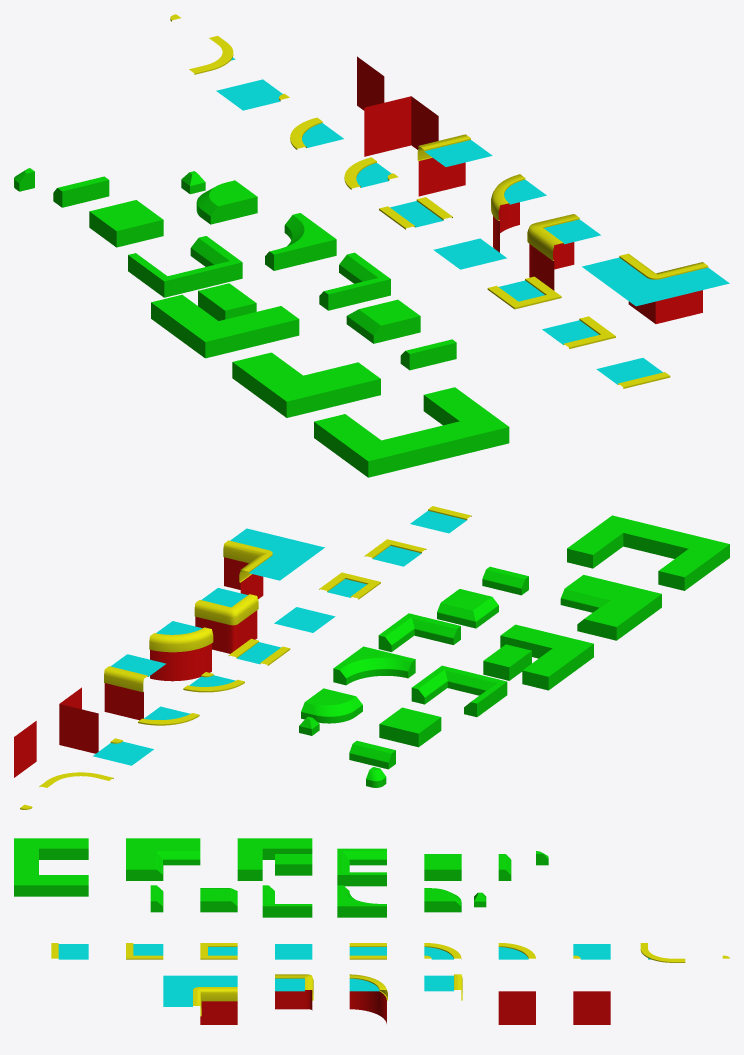
The model's file is Assets_HP.fbx.
3 renders of one model, top to bottom at view 1: azimuth 30°, elevation 25°; view 2: azimuth 150°, elevation 25°; view 3: azimuth 270°, elevation 25°, orthographic. The views are drawn at different scales.
Parts seen in each view (by area): view 1: Support_Outside_1Wide_HP, Wall_Outside_Corner_WithSupport_HP, Island_Inside_Corner_HP, Support_Outside_Corner_HP, Base_Corner_HP, Wall_Outside_1Wide_HP, Island_Outside_Corner_HP, Island_Wall_HP, Support_Inside_wall_HP, Bend_Outside_HP, Wall_Outside_Corner_HP, Wall_Inside_Corner_HP (+14 smaller); view 2: Support_Outside_1Wide_HP, Wall_Outside_Corner_WithSupport_HP, Island_Inside_Corner_HP, Support_Outside_Corner_HP, Island_Outside_Bend_HP, Island_Outside_Corner_HP, Wall_Outside_1Wide_HP, Island_Wall_HP, Bend_Outside_HP, Base_Corner_HP, Wall_Outside_Corner_HP, Support_Inside_wall_HP (+14 smaller); view 3: Support_Outside_1Wide_HP, Island_Inside_Corner_HP, Wall_Outside_Corner_WithSupport_HP, Support_Outside_Corner_HP, Wall_Outside_1Wide_HP, Island_Outside_Corner_HP, Island_Outside_Bend_HP, Base_Corner_HP, Base_HP, Support_Inside_wall_HP, Bend_Outside_HP, Wall_Outside_Corner_HP (+14 smaller).
Part boxes in pixels (x1,y1,x2,y2): Support_Outside_1Wide_HP: [314, 387, 509, 477]; Wall_Outside_Corner_WithSupport_HP: [232, 352, 380, 417]; Island_Inside_Corner_HP: [582, 253, 729, 323]; Support_Outside_Corner_HP: [151, 294, 299, 358]; Base_Corner_HP: [364, 96, 438, 156]; Wall_Outside_1Wide_HP: [128, 236, 242, 297]; Island_Outside_Corner_HP: [527, 214, 600, 290]; Island_Wall_HP: [417, 134, 492, 196]; Support_Inside_wall_HP: [89, 200, 163, 247]; Bend_Outside_HP: [265, 213, 336, 270]; Wall_Outside_Corner_HP: [319, 252, 390, 310]; Wall_Inside_Corner_HP: [346, 299, 420, 343]; Support_Outside_1Wide_HP: [567, 515, 729, 590]; Wall_Outside_Corner_WithSupport_HP: [560, 575, 661, 640]; Island_Inside_Corner_HP: [223, 528, 324, 599]; Support_Outside_Corner_HP: [500, 624, 593, 690]; Island_Outside_Bend_HP: [149, 621, 213, 681]; Island_Outside_Corner_HP: [194, 588, 258, 653]; Wall_Outside_1Wide_HP: [411, 665, 507, 717]; Island_Wall_HP: [104, 654, 165, 720]; Bend_Outside_HP: [333, 646, 415, 685]; Base_Corner_HP: [59, 687, 98, 753]; Wall_Outside_Corner_HP: [378, 613, 460, 651]; Support_Inside_wall_HP: [379, 707, 441, 747]; Support_Outside_1Wide_HP: [14, 838, 88, 896]; Island_Inside_Corner_HP: [163, 975, 237, 1024]; Wall_Outside_Corner_WithSupport_HP: [126, 838, 200, 880]; Support_Outside_Corner_HP: [237, 838, 312, 880]; Wall_Outside_1Wide_HP: [337, 848, 386, 886]; Island_Outside_Corner_HP: [275, 974, 313, 1010]; Island_Outside_Bend_HP: [349, 974, 387, 1023]; Base_Corner_HP: [498, 991, 535, 1024]; Base_HP: [573, 991, 610, 1024]; Support_Inside_wall_HP: [424, 854, 461, 880]; Bend_Outside_HP: [337, 885, 386, 917]; Wall_Outside_Corner_HP: [262, 885, 312, 917].
Bounding box in the file's own units: 30 × 4 × 57.6.
